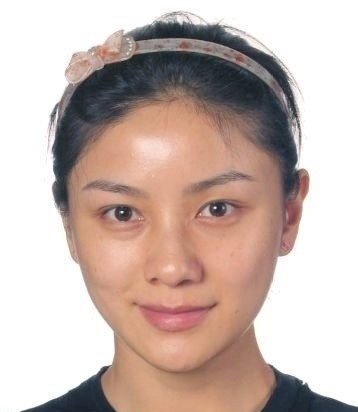unmask: (65, 133, 279, 356)
